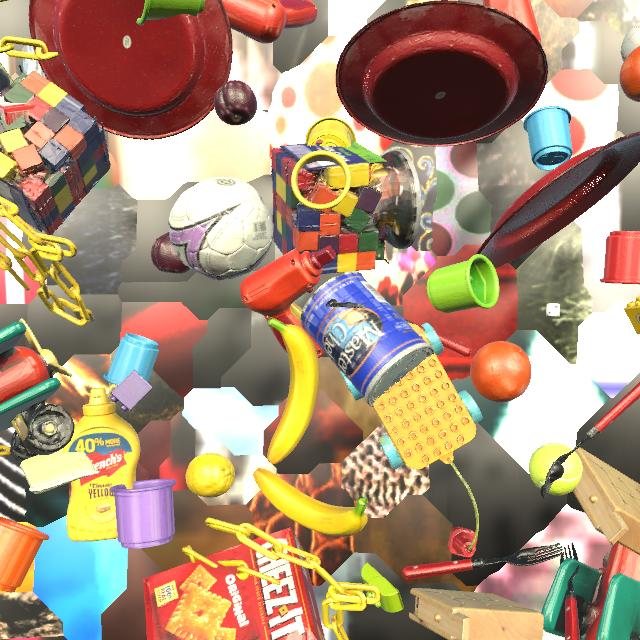ycb_002_master_chef_can: (300, 271, 435, 407)
ycb_003_cracker_box: (143, 528, 325, 640)
ycb_006_mustard_bottle: (62, 387, 140, 542)
ycb_009_gelatin_box: (0, 97, 37, 126)
ycb_010_potted_meat_can: (0, 62, 13, 84)
ycb_011_banana: (253, 468, 368, 537), (267, 317, 320, 465)
ycb_014_lemon: (185, 453, 235, 498)
ycb_017_orange: (470, 341, 532, 403), (619, 46, 640, 102)
ycb_018_plum: (214, 80, 257, 125), (151, 232, 191, 274)
